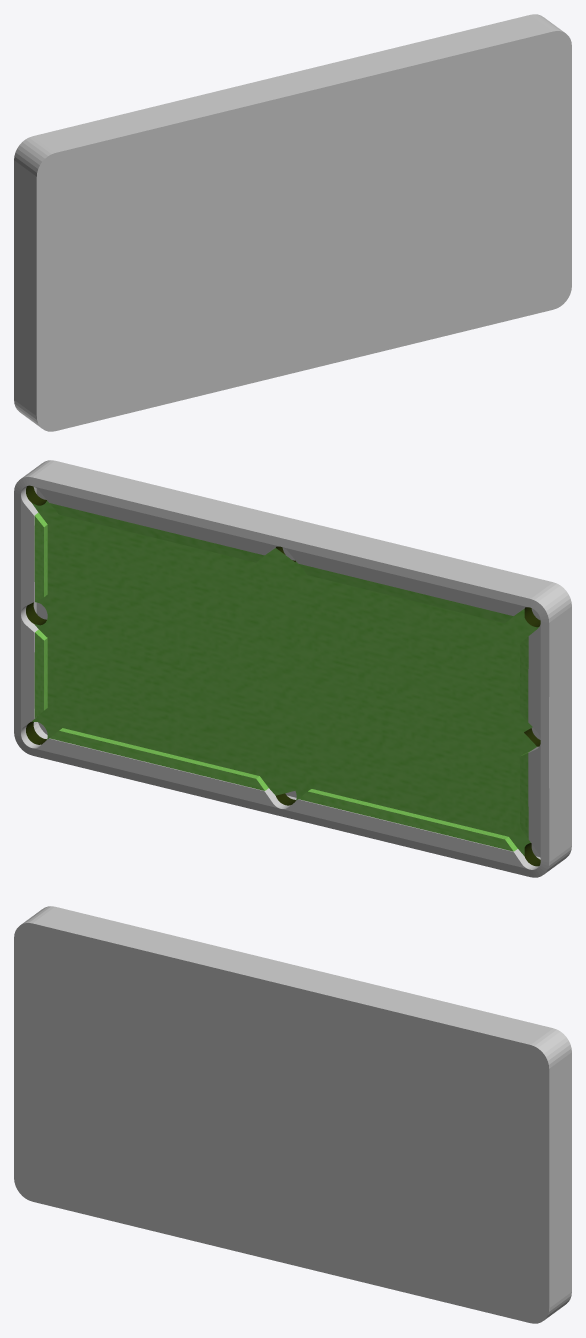
The model's file is Billiard_Table_10_27.fbx.
The picture shows the model from 3 angles, top to bottom: view 1: azimuth 30°, elevation 25°; view 2: azimuth 150°, elevation 25°; view 3: azimuth 330°, elevation 25°; orthographic projection.
Parts seen in each view (by area): view 1: base; view 2: base; view 3: base.
Boxes of the visible parts, left/top/right/bottom form: base: left=14, top=14, right=571, bottom=431; base: left=14, top=460, right=571, bottom=877; base: left=14, top=906, right=571, bottom=1323.
Size of the model in its own units: 6363 by 3162 by 484.
